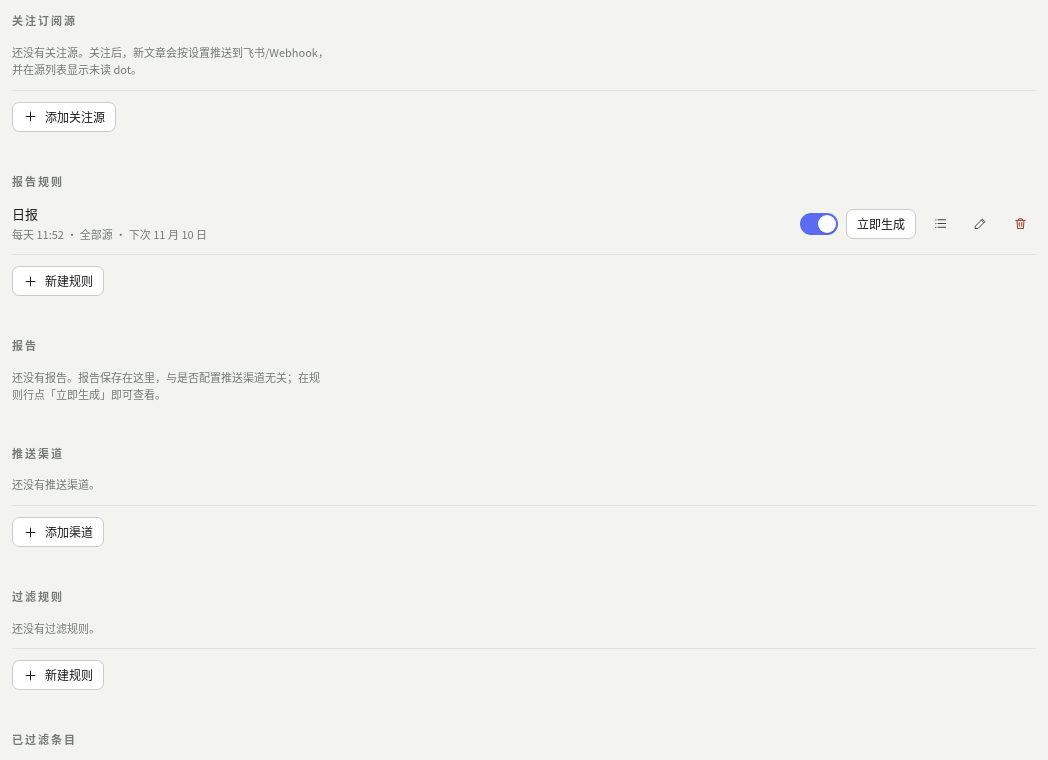
Test: AutomationSettings › opens the rule editor when the edit button is clicked
This screenshot has width=1048, height=760.
Expected: the text "日报" is shown, [12,204,38,223]
Click the button named "编辑 日报": x=980, y=224 [964,208,996,240]
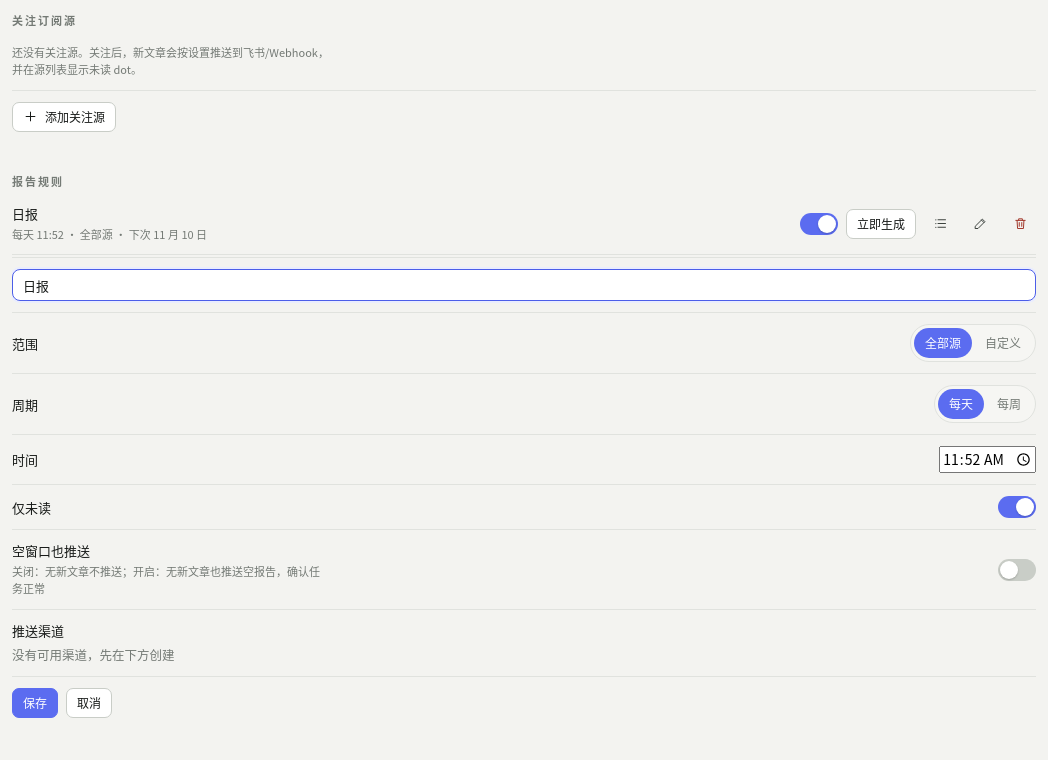
Result: the field named "规则名称" holds "日报" at [12,269,1036,301]
